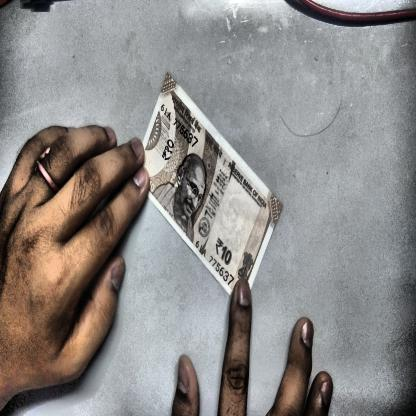Rs10: (211, 233, 236, 272)
